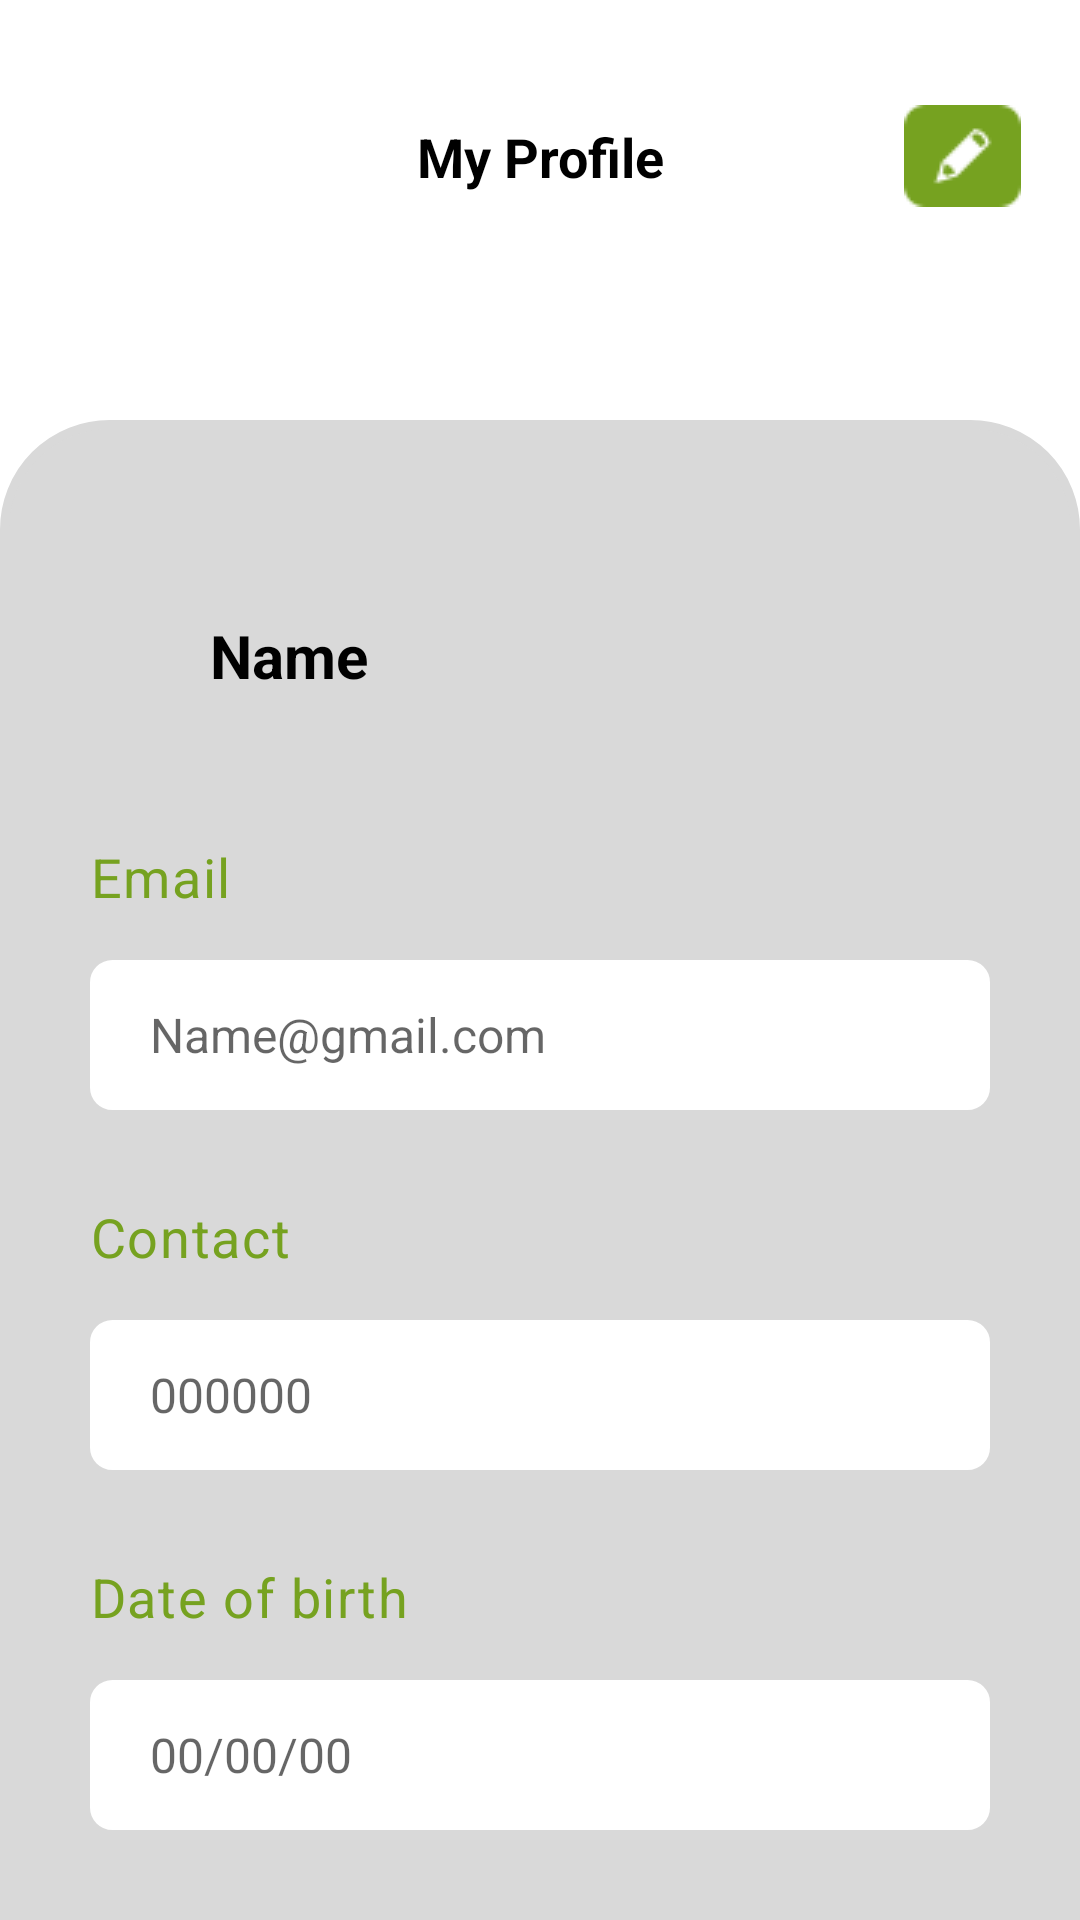

Icons on this 1080*1920 Android screen, each with its box as region(x1, y1, x2, y2):
pen: region(904, 105, 1021, 207)
